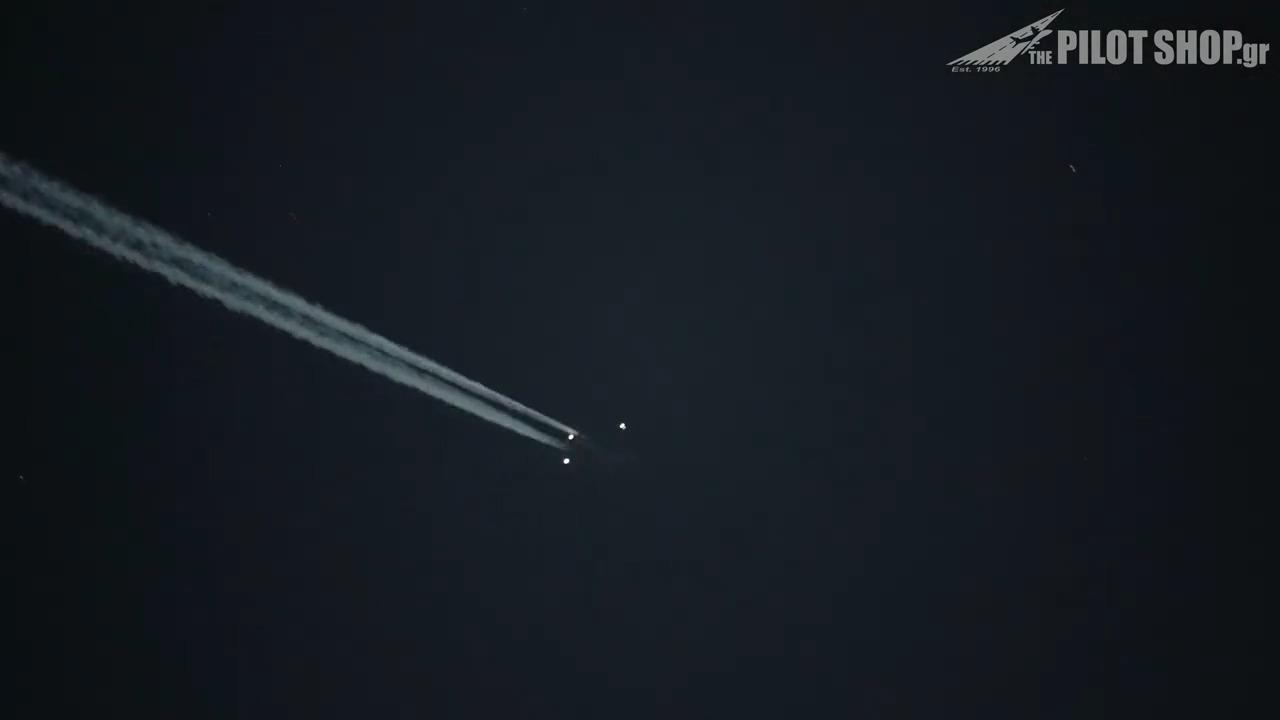Plane: (480, 373, 657, 496)
